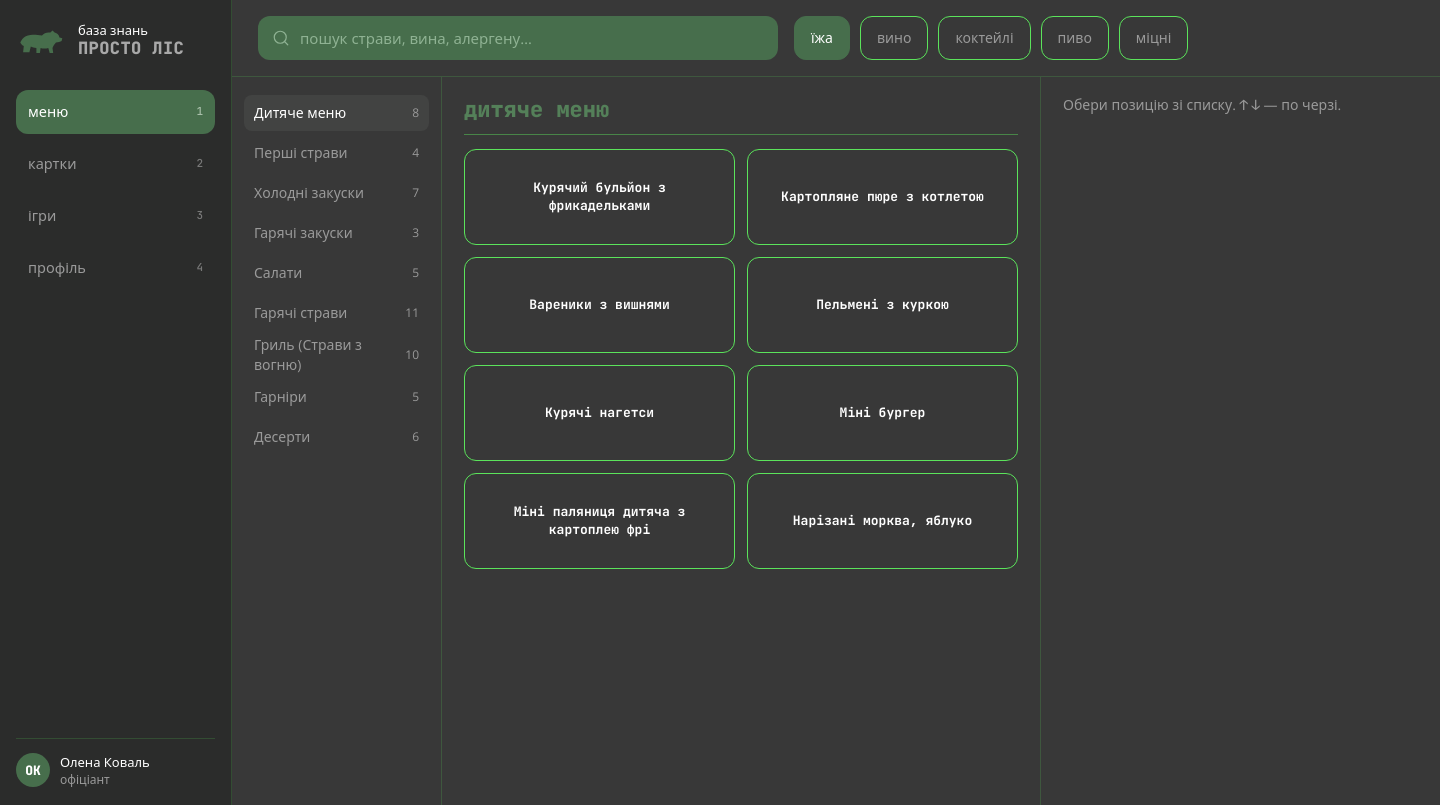
MenuPanesView (desktop) › switches subcategory and opens an item in the side pane without leaving the list
The image size is (1440, 805).
Step 1. Click the button "Перші страви 4" → point(336, 153), box 244,135 -> 429,171
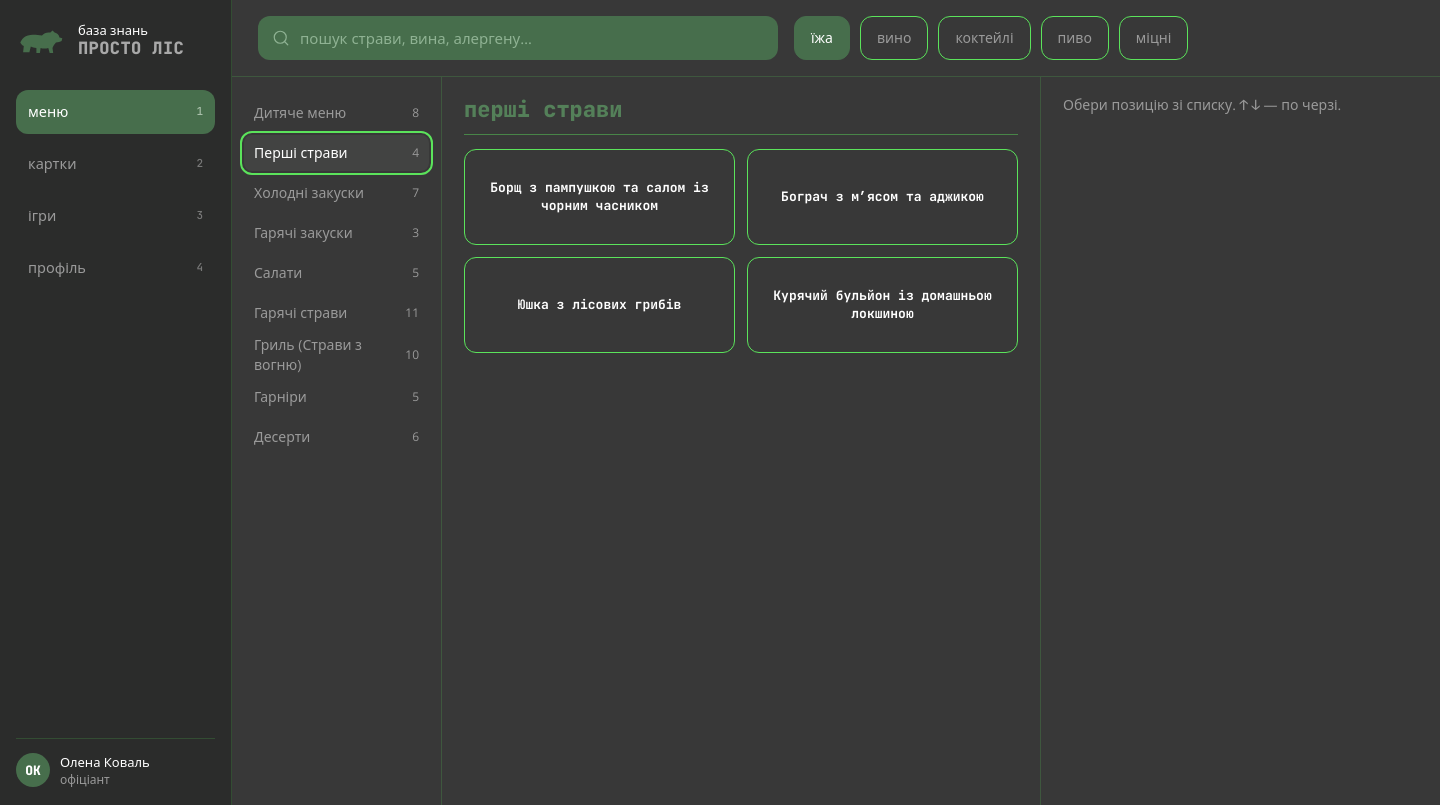
Check: the heading "перші страви" is shown, box 464,95 -> 1018,135
Step 2. Click the link "Борщ з пампушкою та салом із чорним часником" → point(600, 197), box 464,149 -> 735,245
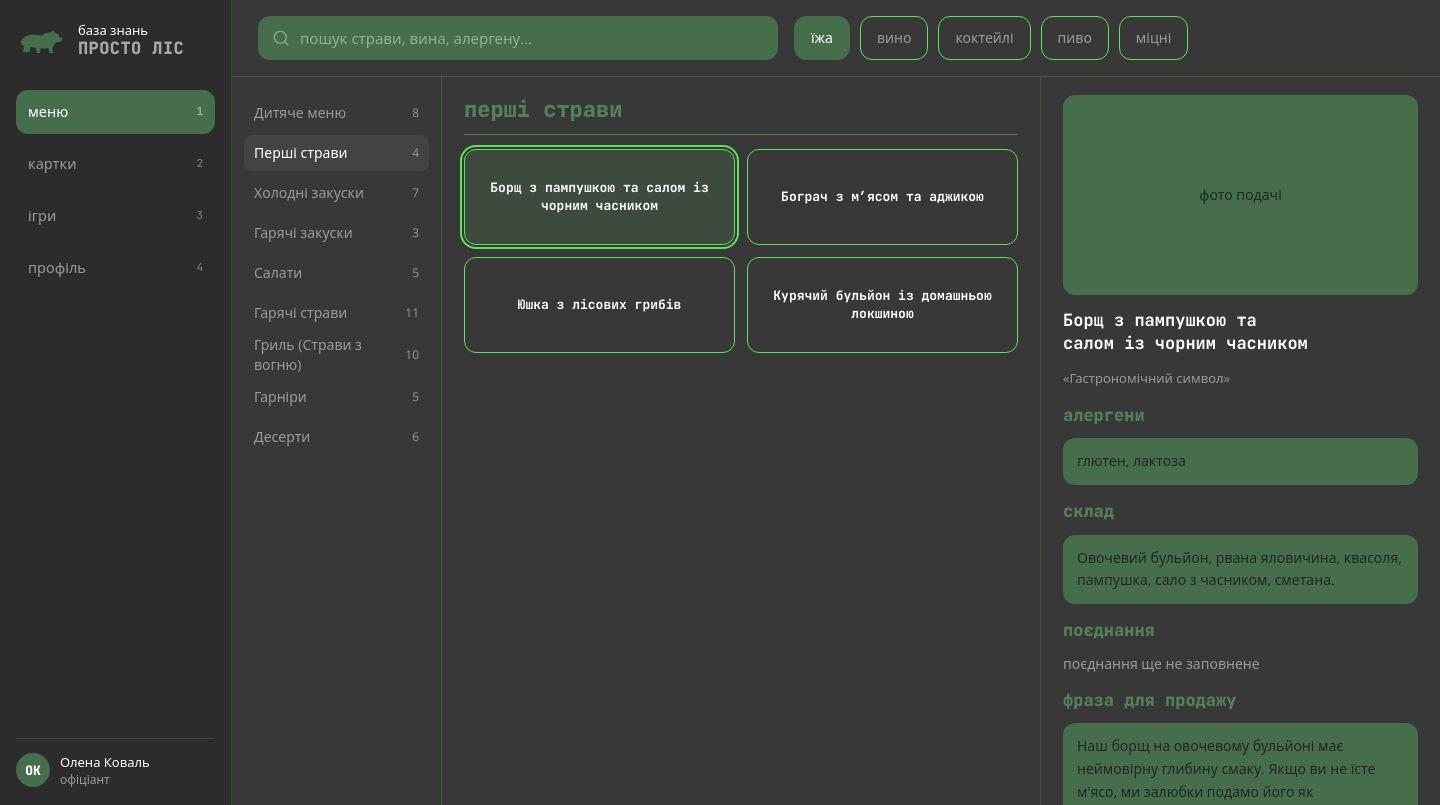
Check: the heading "Борщ з пампушкою та салом із чорним часником" is shown, box 1063,309 -> 1308,354
Check: the heading "склад" is shown, box 1063,500 -> 1114,522
